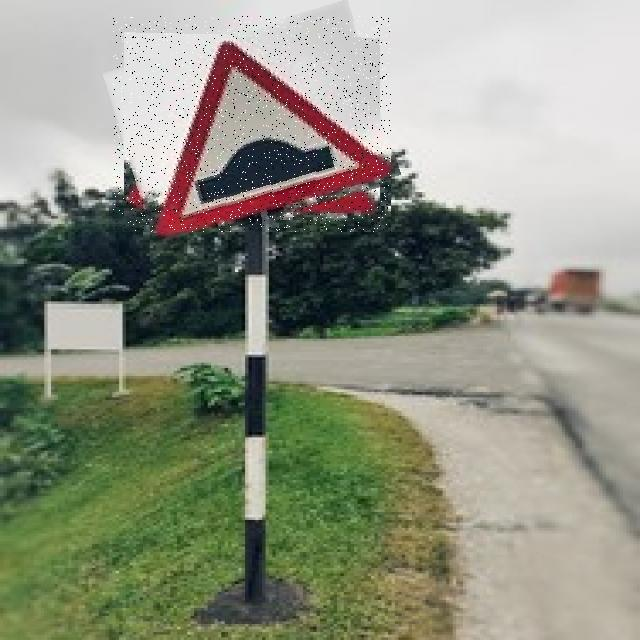hump: (113, 16, 391, 232)
